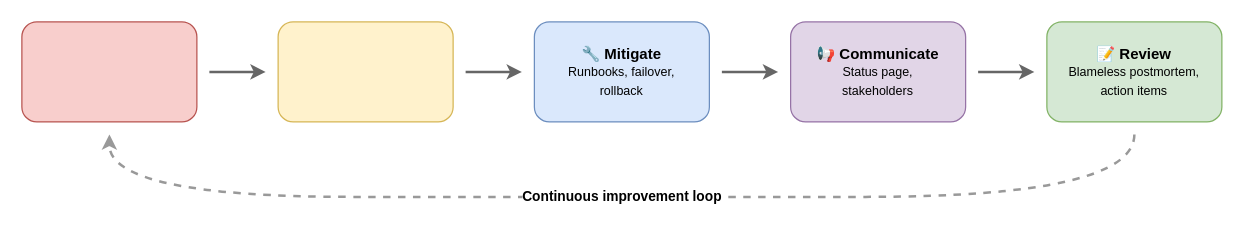
This 1244x226 diagram has some shape labels left out. Here are the shapes that lost their labels. From the top down, the centre of each, then its label:
(x=109, y=71): 🔍 Detect Alerts, health probes, monitors
(x=365, y=71): 🏥 Triage Severity, impact, assign owner
